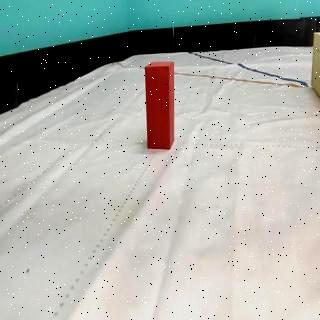redbox: (144, 60, 174, 150)
